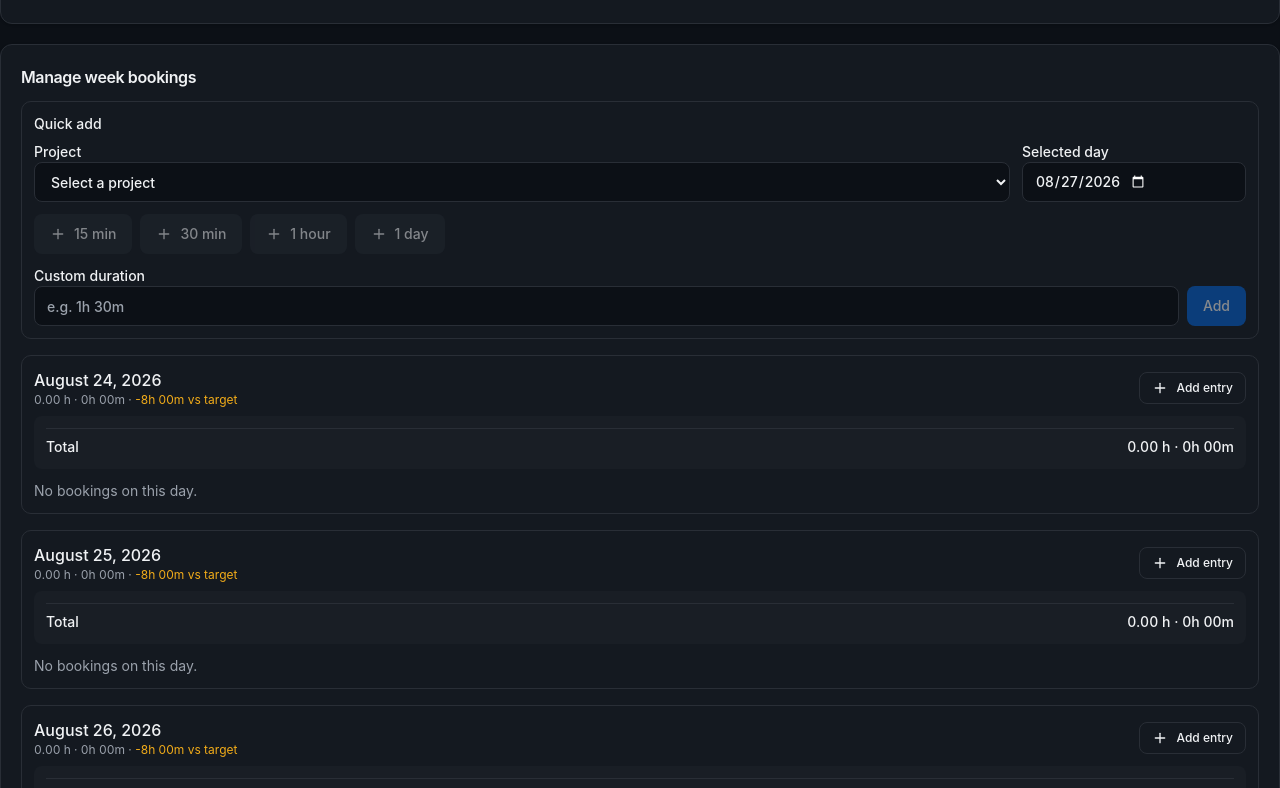
it: WeekPage › opens the entry dialog prefilled with the day it was started from
The image size is (1280, 788).
(page scrolled)
Click the button "Add entry" in the row of "August 24, 2026" at (1193, 388), box left=1140, top=372, right=1246, bottom=404
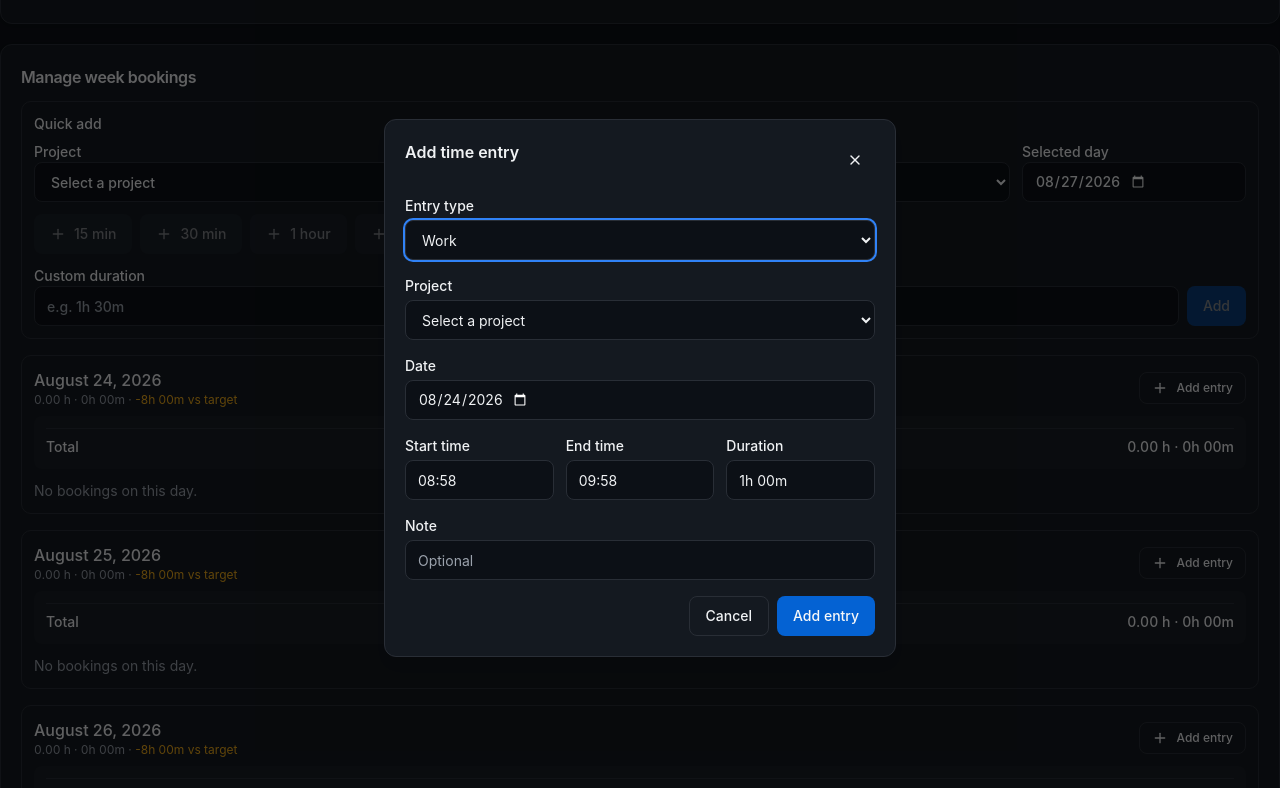
Expected: the date field labelled "Date" holds "2026-08-24", left=405, top=380, right=875, bottom=420
